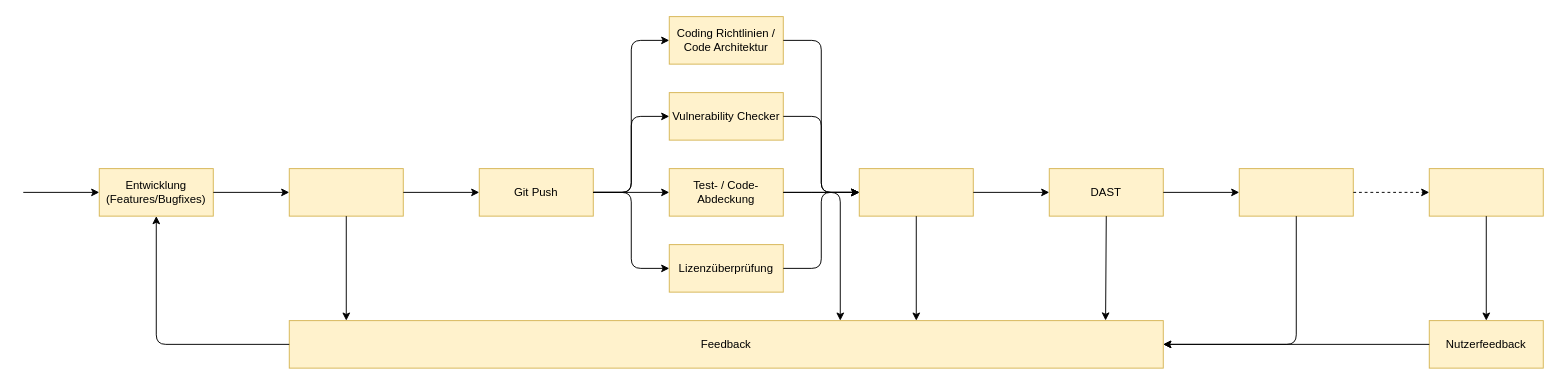
Image size: 1560x385. Some labels were removed from this diagram. Here are the shapes that lost their labels. From the top down, the centre of each, then its label:
point (345, 192): Lokale Tests
point (915, 192): Build
point (1295, 192): Ausführliche manuelle Tests (Sec. und Features)
point (1485, 192): Deploy
